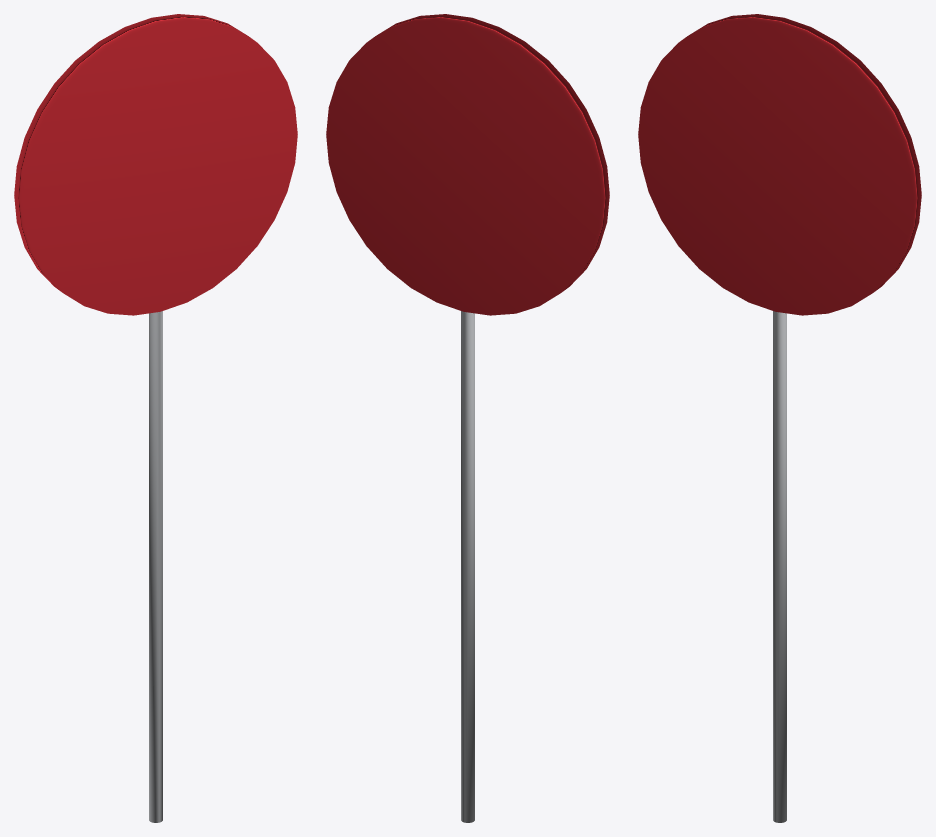
File: whitestop.glb
The picture shows the model from 3 angles, left to right: view 1: azimuth 30°, elevation 25°; view 2: azimuth 150°, elevation 25°; view 3: azimuth 330°, elevation 25°; orthographic projection.
Visible parts, largest first — view 1: whitestop; view 2: whitestop; view 3: whitestop.
Boxes of the visible parts, bbox=[...] form: whitestop: bbox=[14, 14, 297, 822]; whitestop: bbox=[326, 14, 609, 822]; whitestop: bbox=[638, 14, 921, 822].
Size of the model in its own units: 2 by 5.56 by 0.1139.
